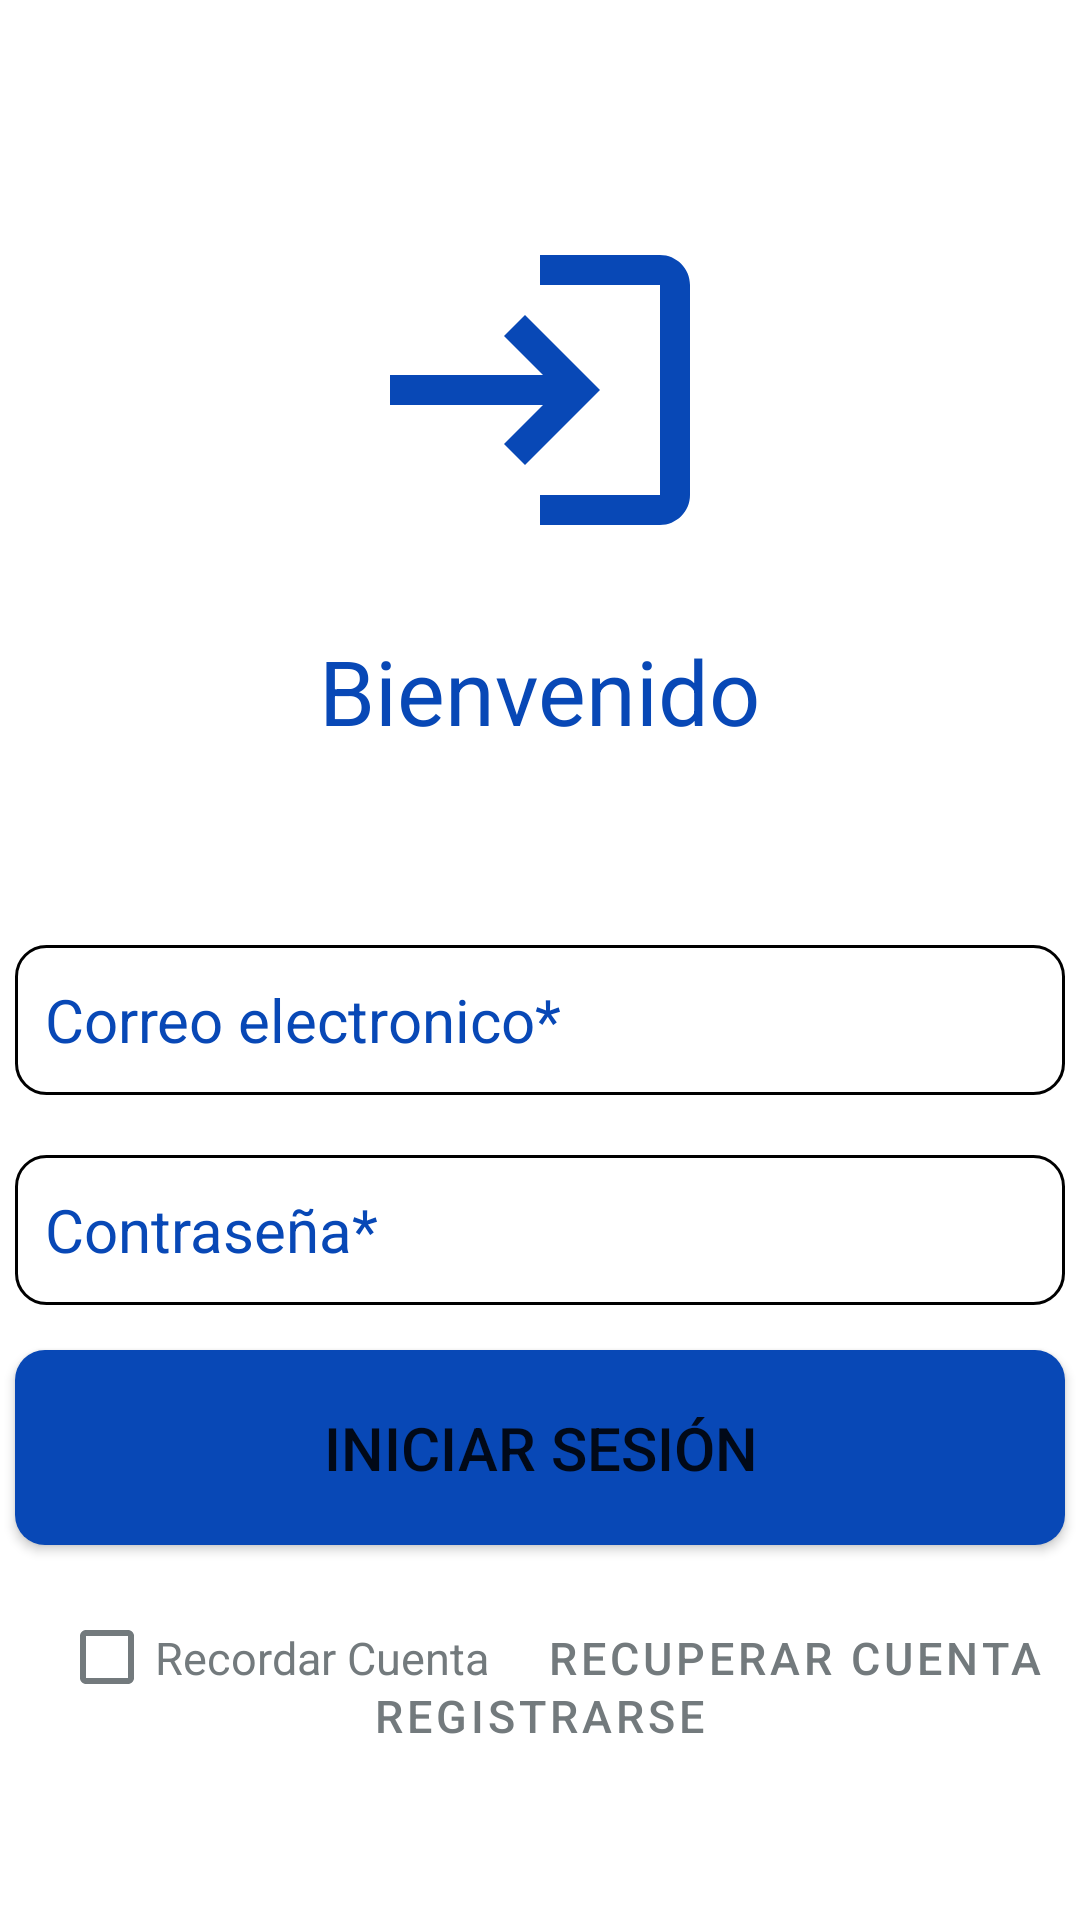

Named icons in this screenshot (1080px x 1920px) and their centers, point (x, y):
Login: point (540, 390)
